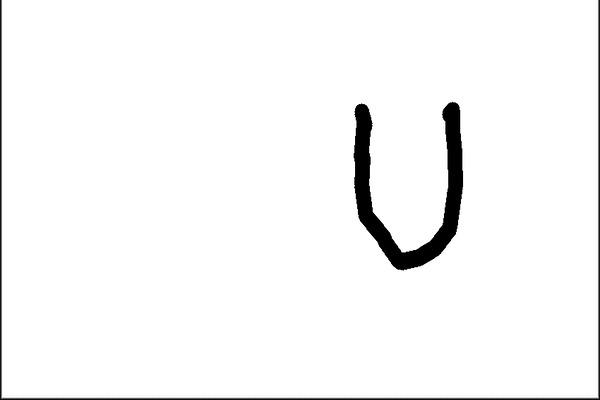U: (337, 96, 479, 279)
